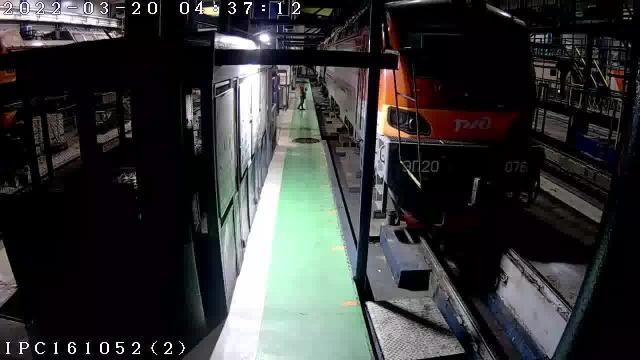person: (297, 84, 305, 110)
train: (320, 0, 543, 228)
